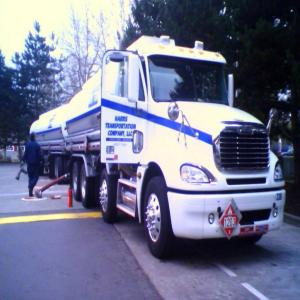Vehicle-registration-plate: (221, 198, 244, 240)
